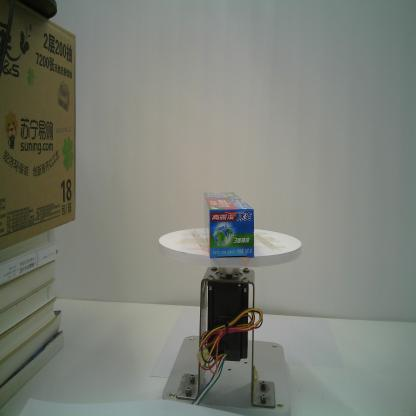Personal Hygiene: (203, 189, 255, 261)
